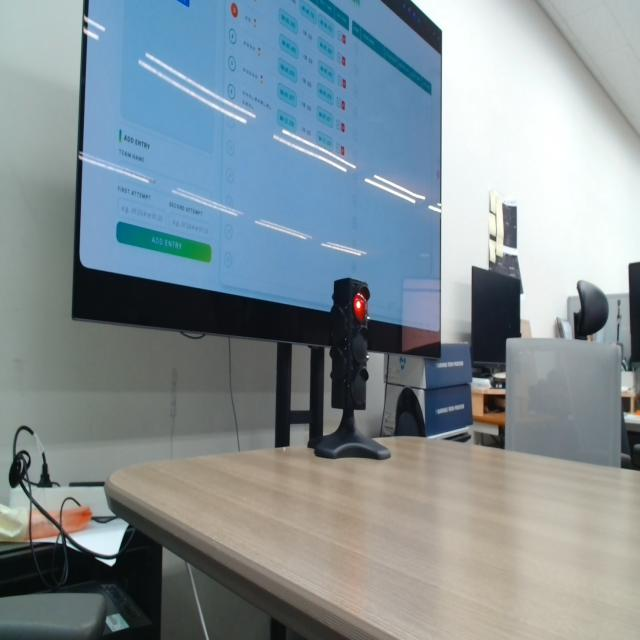red_light: (353, 293, 367, 323)
